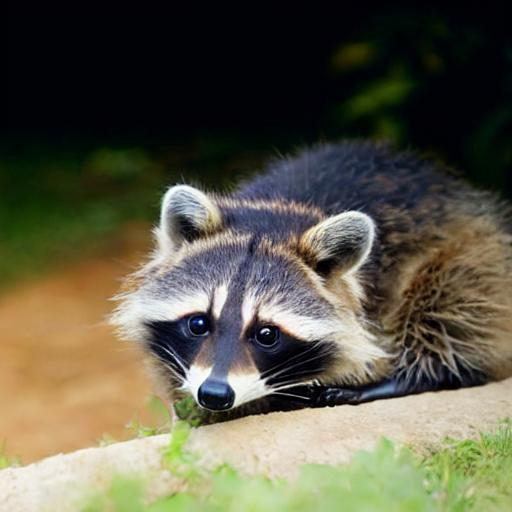raccoon: (95, 122, 512, 442)
